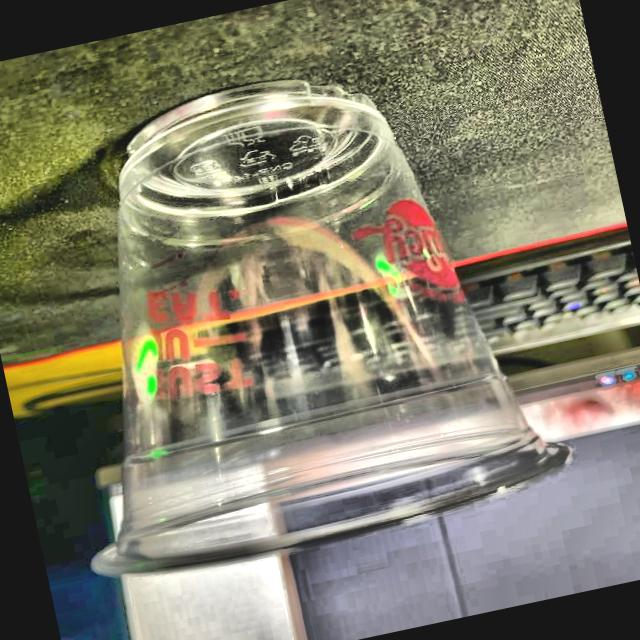plastic cup: (0, 26, 579, 595)
